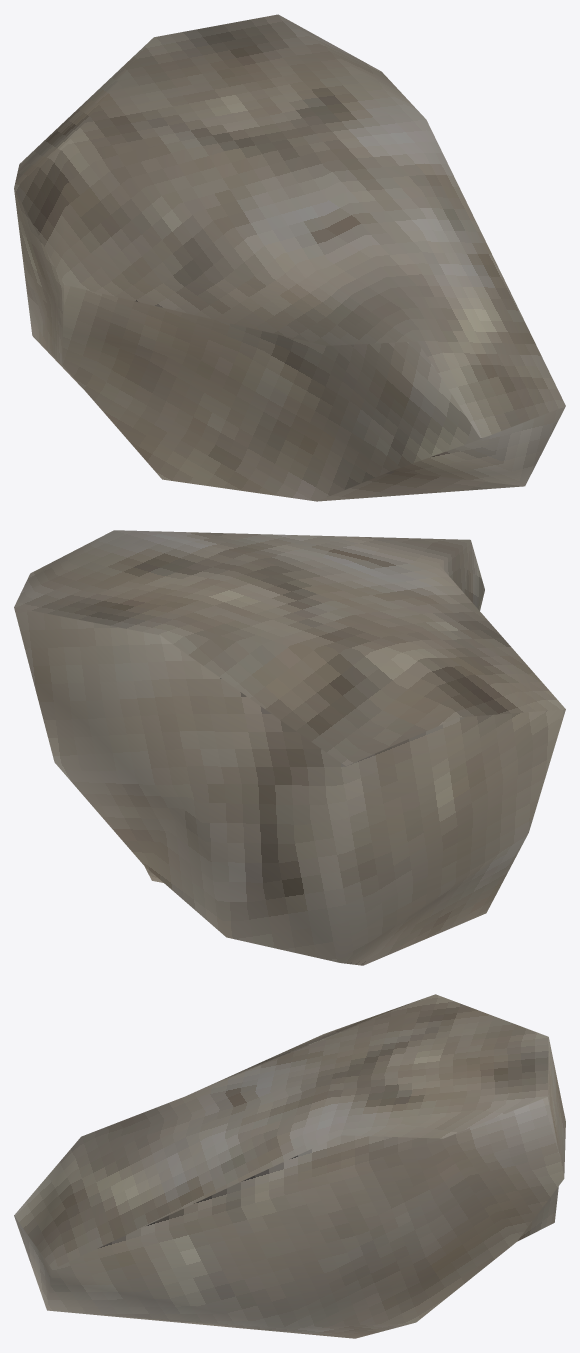
The model's file is rock_handpainted_4.glb.
3 renders of one model, top to bottom at view 1: azimuth 30°, elevation 25°; view 2: azimuth 150°, elevation 25°; view 3: azimuth 270°, elevation 25°, orthographic. The views are drawn at different scales.
Visible parts, largest first — view 1: rock_4; view 2: rock_4; view 3: rock_4.
Part boxes in pixels (box(x1,y1,x2,y2)): rock_4: box(14, 14, 565, 501); rock_4: box(14, 530, 565, 965); rock_4: box(14, 994, 565, 1338).
Bounding box in the file's own units: 1.76 × 1.36 × 2.46.
1 material, 1 textured.
